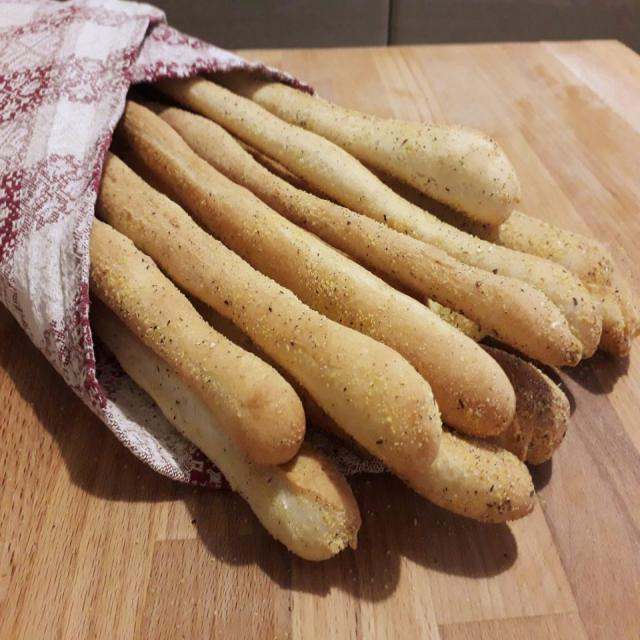Grissini: (86, 53, 640, 562)
